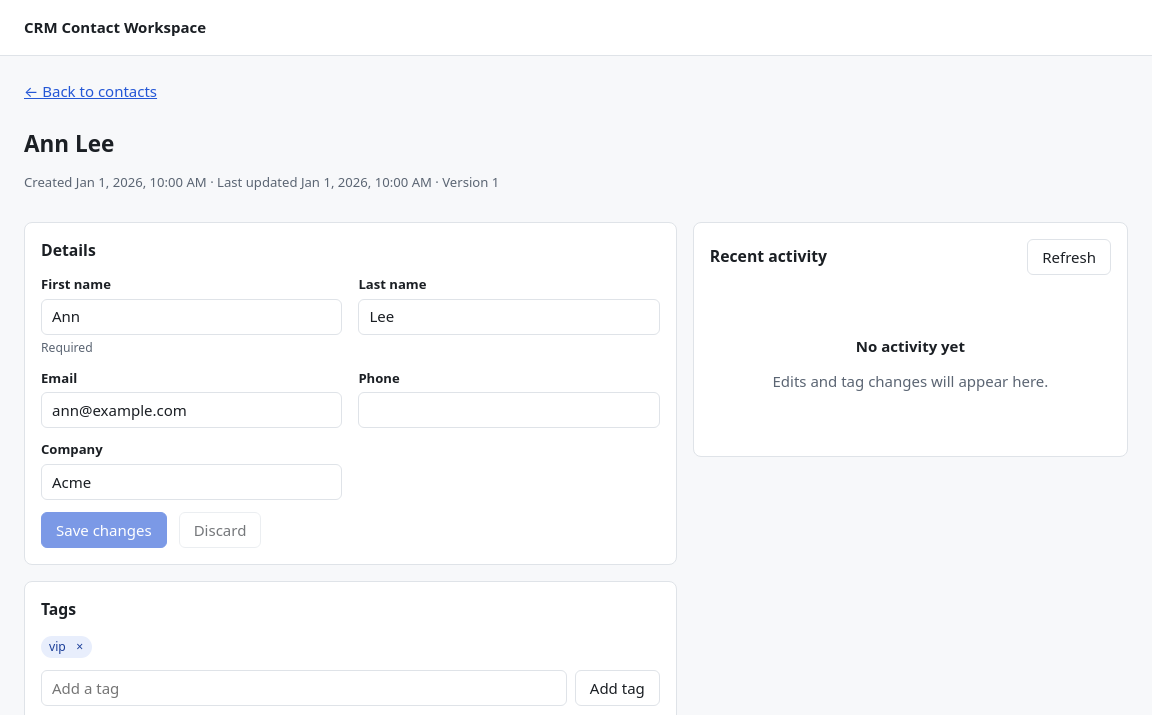
it: ContactDetailPage — conflicting updates › 'Use their version' discards the draft
Check: the heading "Ann Lee" is shown, box [24, 128, 114, 158]
Replace the text in the field labelled "Company" with "Acme Ltd" at (192,482), box [41, 464, 342, 500]
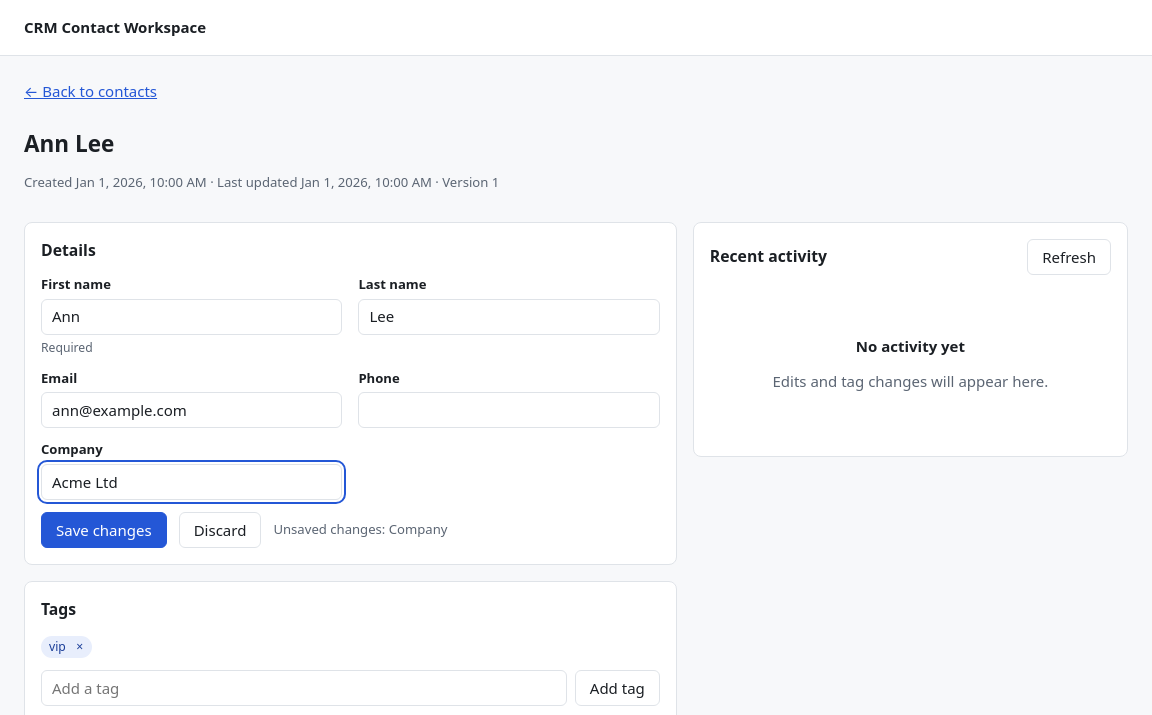
Click the button "Save changes" at (104,530), box [41, 512, 167, 548]
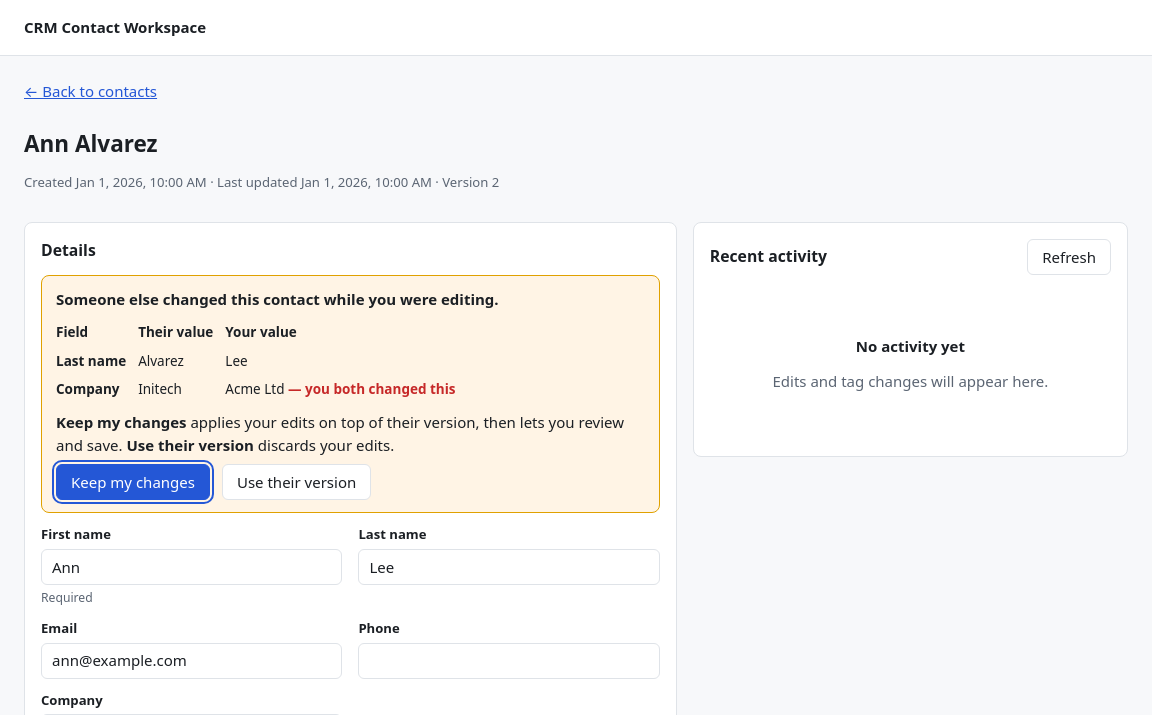
Click the button "Use their version" at (297,482), box [222, 464, 371, 500]
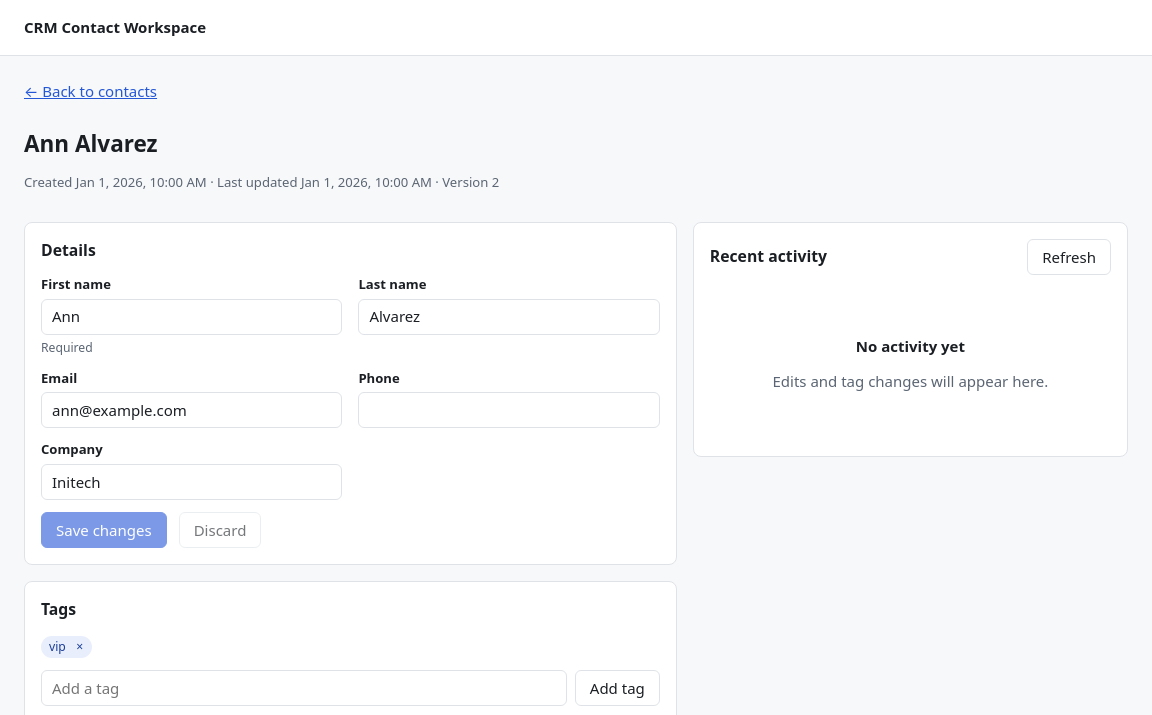
Check: the button "Save changes" is disabled, box [41, 512, 167, 548]
Check: the field labelled "Company" holds "Initech", box [41, 464, 342, 500]
